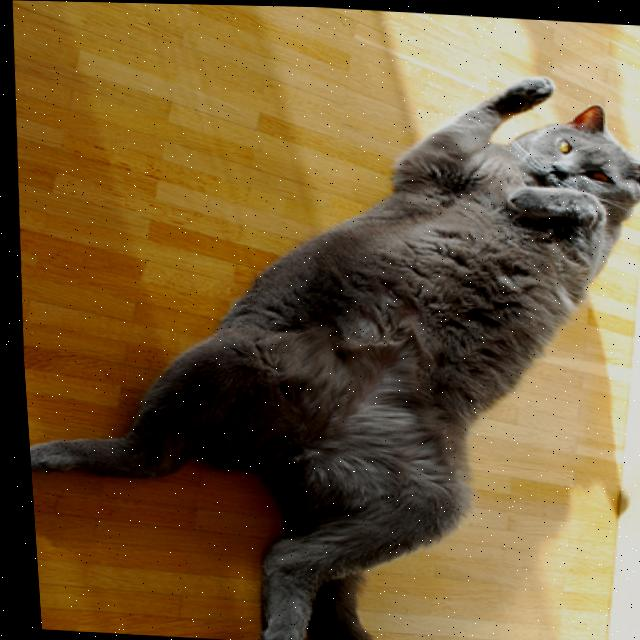British Shorthair: (2, 40, 640, 640)
